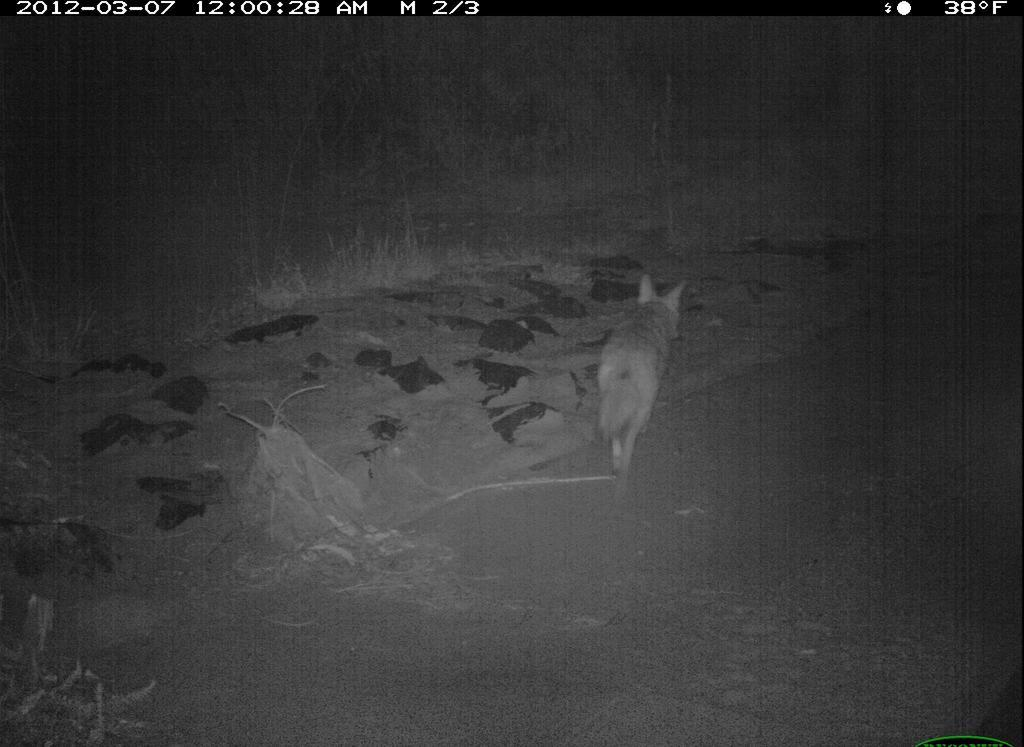coyote: (594, 271, 698, 481)
